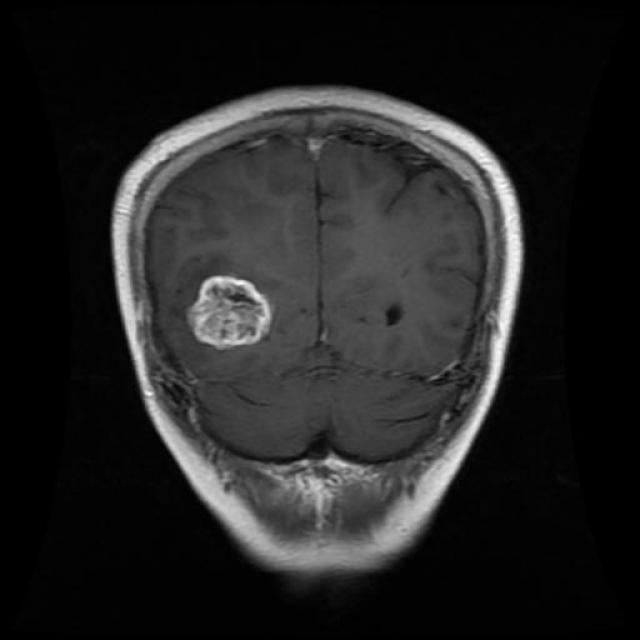glioma: (186, 274, 274, 350)
